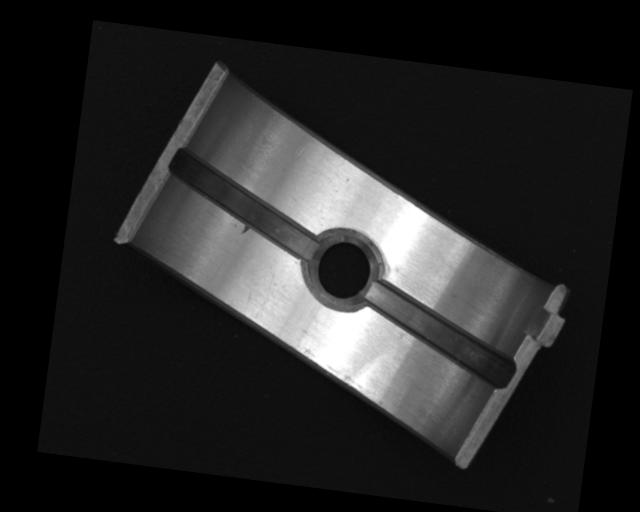bruise: (240, 224, 252, 236)
gap: (161, 148, 325, 262), (356, 280, 522, 389)
hole: (304, 228, 382, 312)
